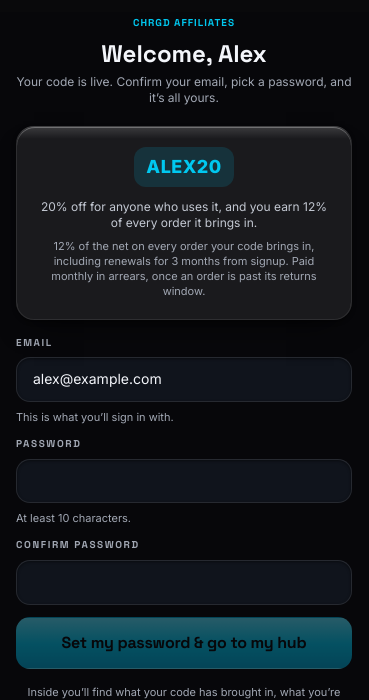
it: an affiliate opening their link › will not submit a password that is too short or mistyped
The width and height of the screenshot is (369, 700).
expect the text "ALEX20" is shown: met, box [134,147,234,187]
Type "short" into the password field labelled "Password" at (184, 481), box [16,459,352,504]
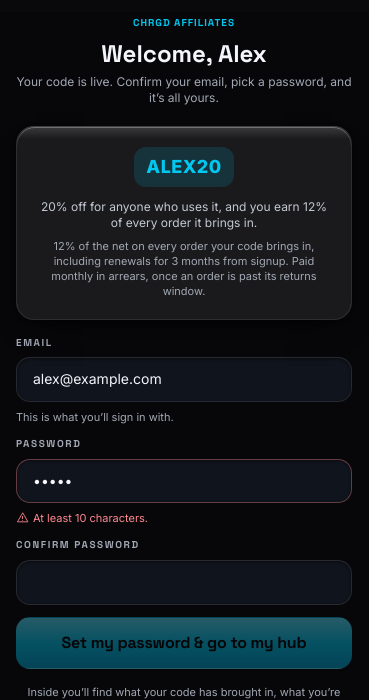
expect the button "Set my password & go to my hub" is disabled: met, box [16,617,352,669]
expect the text "At least 10 characters." is shown: met, box [16,512,148,526]
Type "a-long-enough-one" into the password field labelled "Password" at (184, 481), box [16,459,352,504]
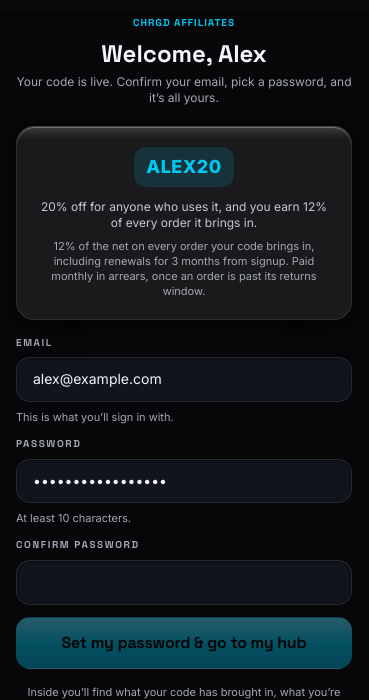
Type "a-long-enough-two" into the password field labelled "Confirm password" at (184, 582), box [16,560,352,605]
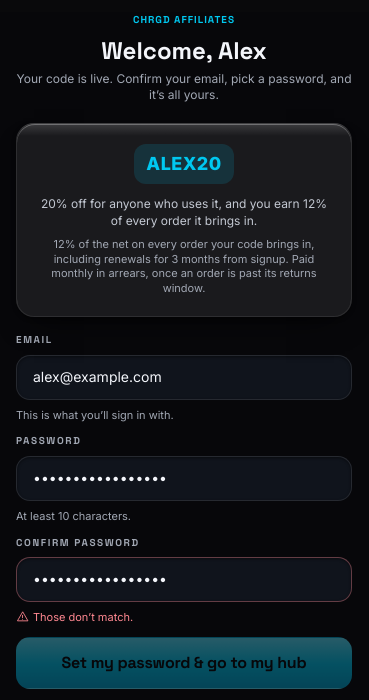
expect the button "Set my password & go to my hub" is disabled: met, box [16,637,352,689]
expect the text "Those don’t match." is shown: met, box [16,610,133,624]
